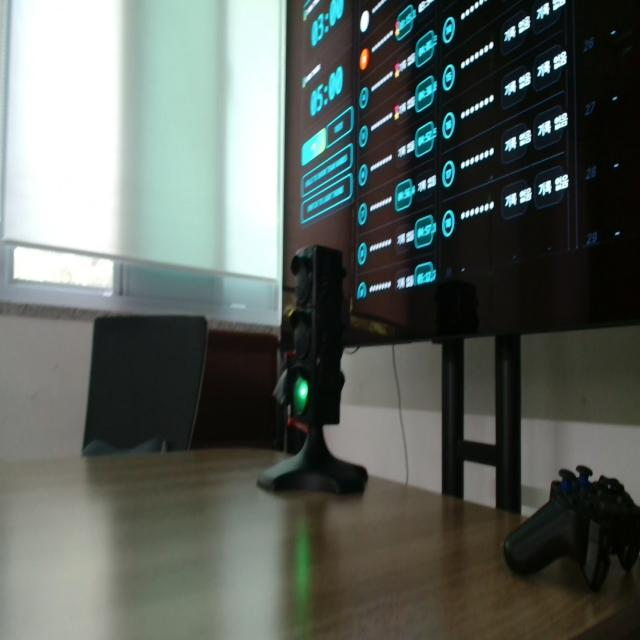green_light: (293, 376, 308, 414)
